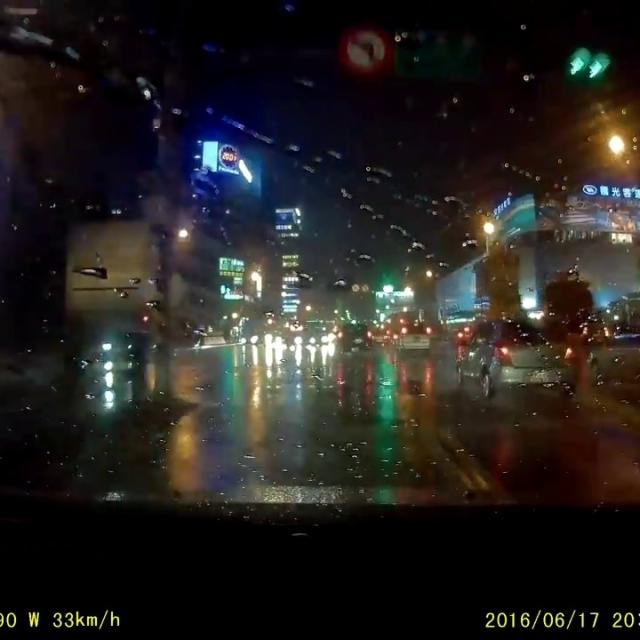Car: (455, 314, 579, 397), (585, 330, 639, 396), (336, 321, 370, 351), (394, 320, 429, 347), (448, 318, 478, 341), (304, 326, 329, 344), (369, 325, 391, 343), (237, 329, 260, 344), (263, 326, 282, 341)
